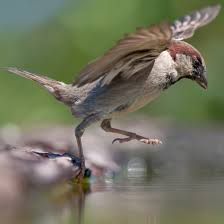hsparrow: (4, 3, 224, 191)
